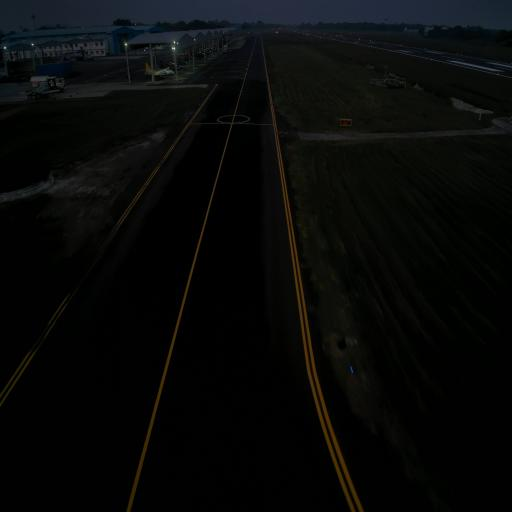on: (350, 360, 354, 378)
